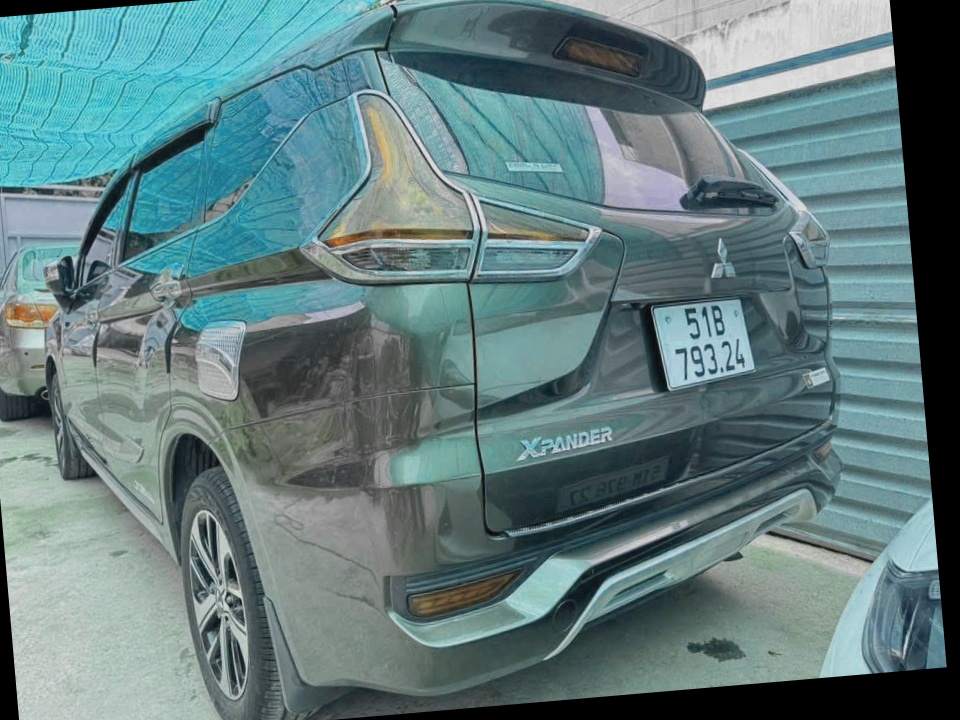Bien-so: (696, 352, 815, 451)
